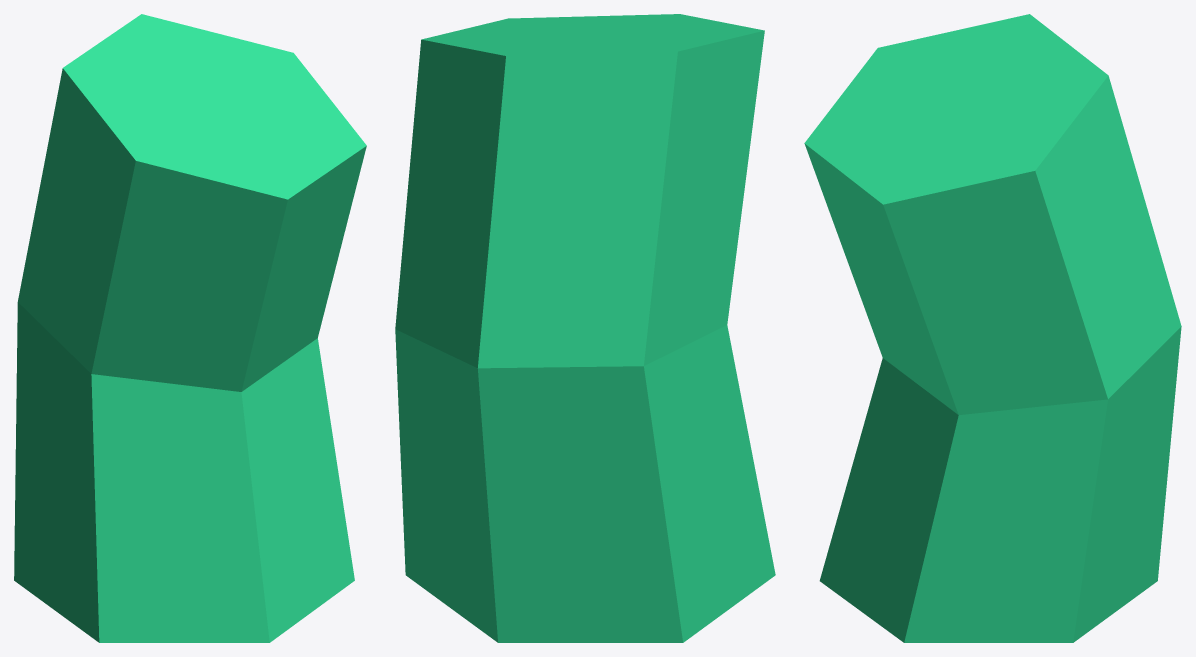
Rendered from ColCanEmpty.fbx.
3 renders of one model, left to right at view 1: azimuth 30°, elevation 25°; view 2: azimuth 150°, elevation 25°; view 3: azimuth 270°, elevation 25°, orthographic. The views are drawn at different scales.
Parts seen in each view (by area): view 1: ColCanEmpty; view 2: ColCanEmpty; view 3: ColCanEmpty.
Part boxes in pixels (bbox=[...]): ColCanEmpty: bbox=[14, 14, 366, 642]; ColCanEmpty: bbox=[395, 14, 775, 642]; ColCanEmpty: bbox=[804, 14, 1181, 642].
Bounding box in the file's own units: 11.35 × 21.74 × 14.34.
